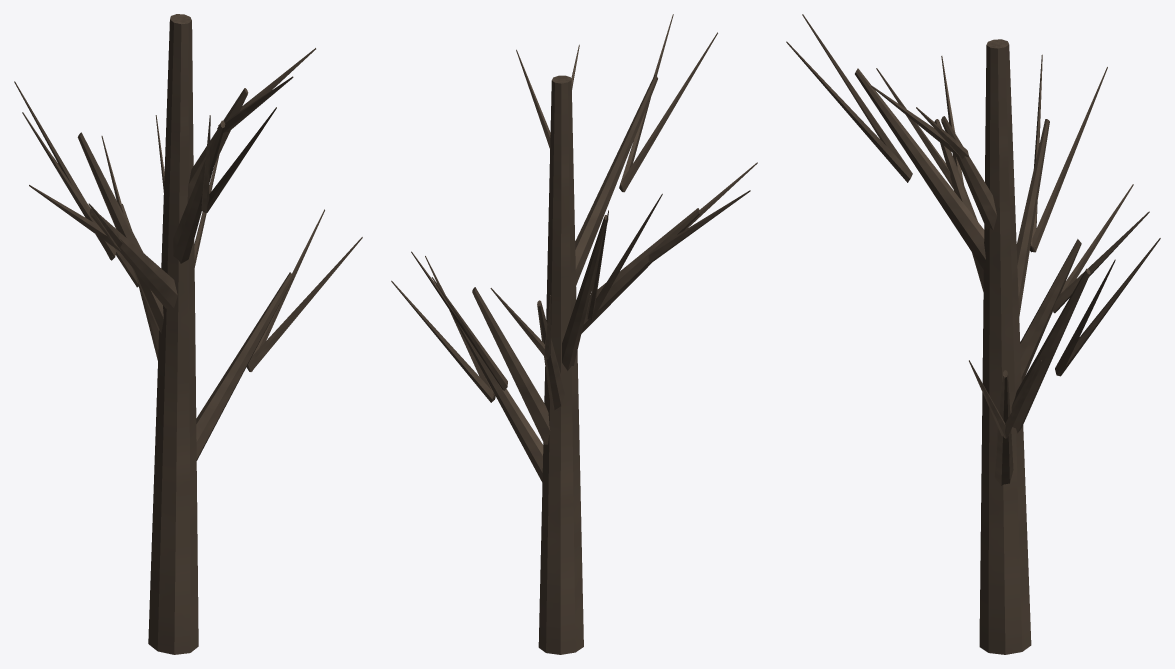
File: tree_dead_01.fbx
3 renders of one model, left to right at view 1: azimuth 30°, elevation 25°; view 2: azimuth 150°, elevation 25°; view 3: azimuth 270°, elevation 25°, orthographic. The views are drawn at different scales.
Parts seen in each view (by area): view 1: tree_dead_01; view 2: tree_dead_01; view 3: tree_dead_01.
Boxes of the visible parts, x1=… form: tree_dead_01: x1=14, y1=14, x2=362, y2=654; tree_dead_01: x1=391, y1=14, x2=757, y2=654; tree_dead_01: x1=786, y1=14, x2=1160, y2=654.
Size of the model in its own units: 464 by 800 by 450.
Materials: 1 (1 with a texture image).
